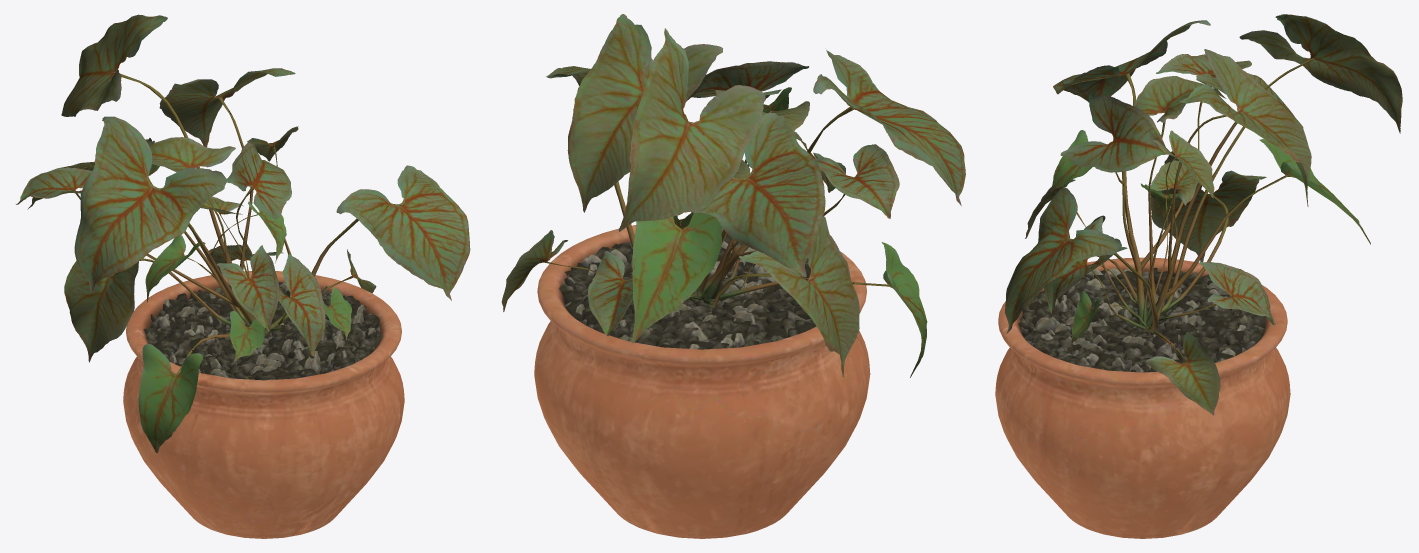
Rendered from plant.glb.
3 views of the same model, side by side, from view 1: azimuth 30°, elevation 25°; view 2: azimuth 150°, elevation 25°; view 3: azimuth 270°, elevation 25° (orthographic). The views are drawn at different scales.
Visible parts, largest first — view 1: leaves, pot, dirt; view 2: leaves, pot, dirt; view 3: leaves, pot, dirt.
Boxes of the visible parts, left/top/right/bottom form: leaves: left=16, top=14, right=470, bottom=452; pot: left=123, top=271, right=404, bottom=538; dirt: left=143, top=282, right=383, bottom=380; leaves: left=501, top=14, right=965, bottom=377; pot: left=534, top=219, right=870, bottom=538; dirt: left=559, top=233, right=816, bottom=349; leaves: left=1005, top=14, right=1402, bottom=415; pot: left=995, top=257, right=1290, bottom=538; dirt: left=1018, top=267, right=1266, bottom=372.
Bounding box in the file's own units: 0.7012 × 0.8412 × 0.6574.
2 materials, 2 textured.
